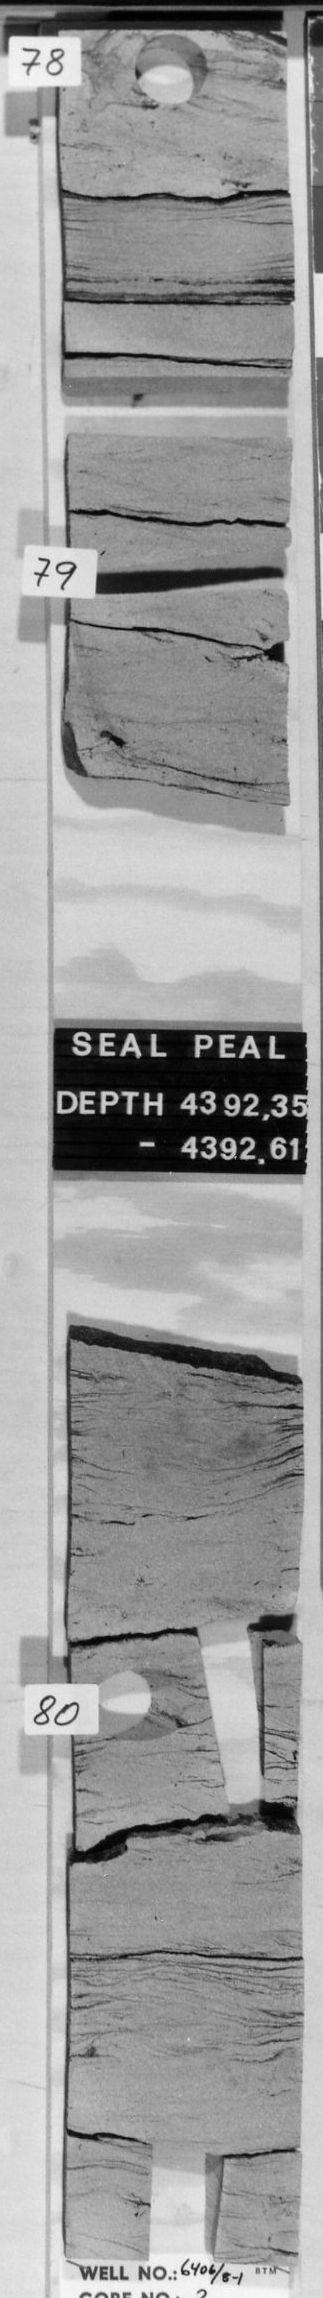hplug: (70, 550, 286, 599), (87, 1665, 191, 1743), (129, 29, 214, 108)
vplug: (189, 1611, 277, 1822), (139, 2135, 226, 2261)
